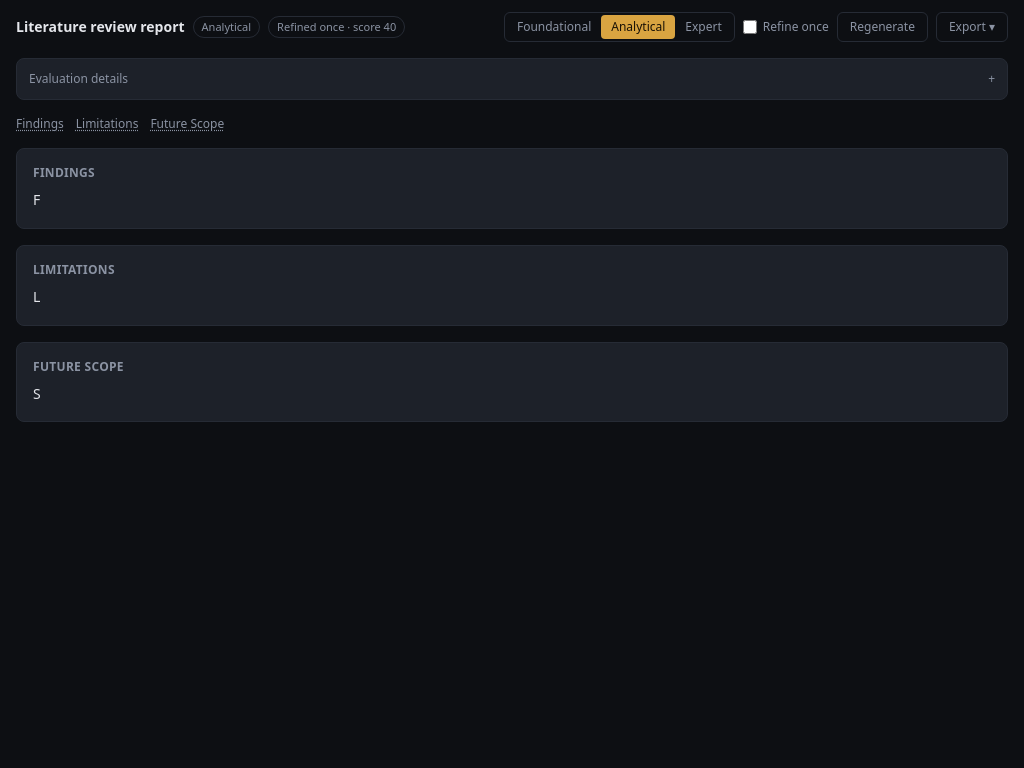
Test: ReportModePanel -- report-quality Phase R4.2: evaluation details disclosure › expanding the disclosure shows the draft-before-revision copy and the issues
Click the button with test id "evaluation-details-toggle" at (79, 78), box [29,71,995,87]
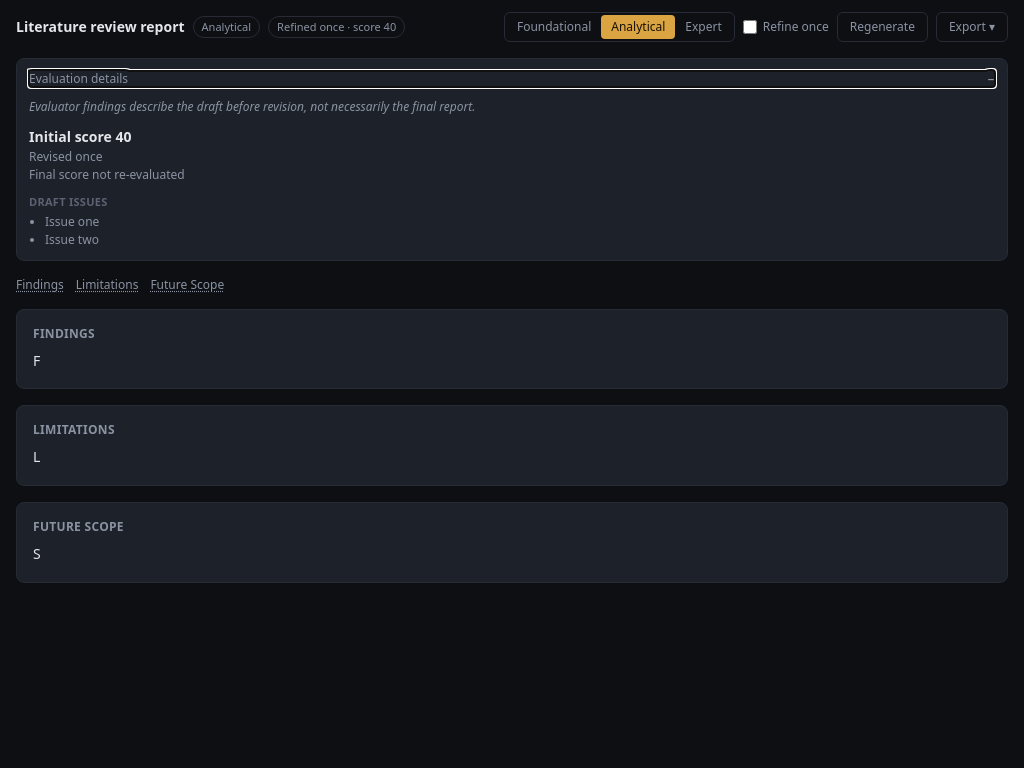
expect the element with test id "evaluation-details-panel" shows "Evaluator findings describe the draft before revision, not necessarily the final report.": met, box [29,98,475,115]
expect the list with test id "evaluation-details-issues" shows "Issue one": met, box [45,213,99,230]
expect the list with test id "evaluation-details-issues" shows "Issue two": met, box [45,231,99,248]
